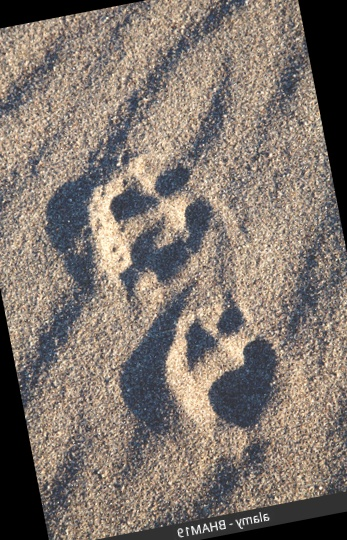coyote: (174, 296, 293, 442), (102, 155, 224, 293)
